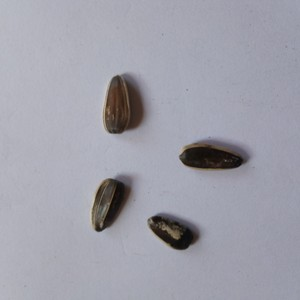girasol: (100, 72, 134, 135), (176, 144, 248, 173), (143, 214, 196, 253), (90, 176, 124, 234)
